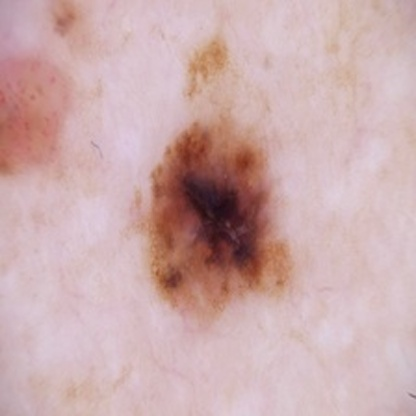malignant: (144, 128, 291, 297), (1, 67, 84, 179)
